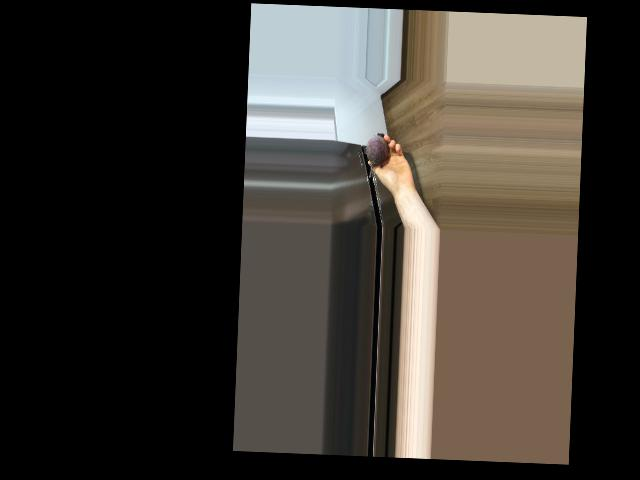beet: (365, 132, 388, 177)
